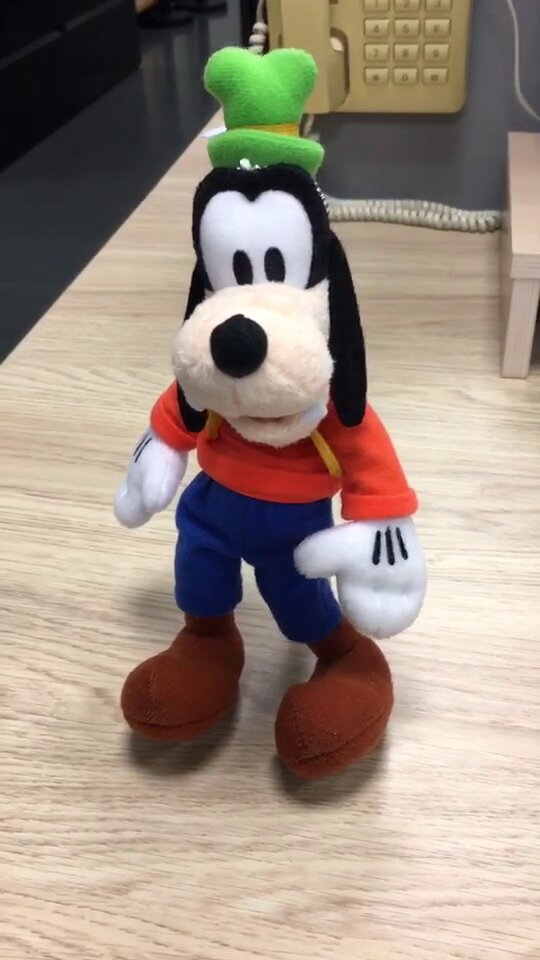goofy: (109, 41, 429, 772)
